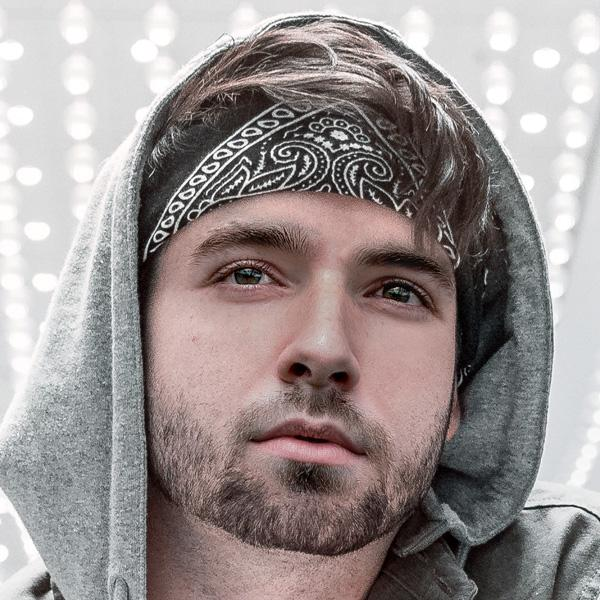Eyes: (198, 241, 299, 308), (349, 263, 449, 330)
